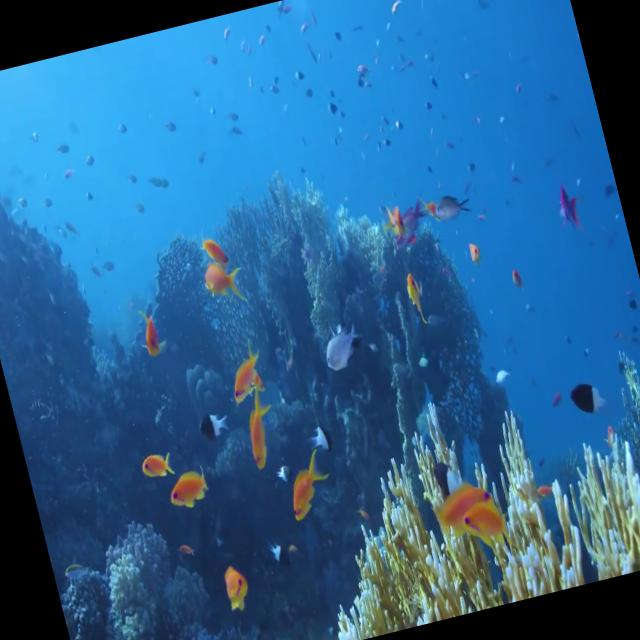fish: (427, 479, 498, 541), (281, 445, 339, 520), (238, 389, 280, 471), (316, 318, 367, 375), (460, 498, 511, 553), (562, 370, 609, 424), (200, 257, 248, 308), (164, 466, 214, 514), (138, 447, 176, 484)
